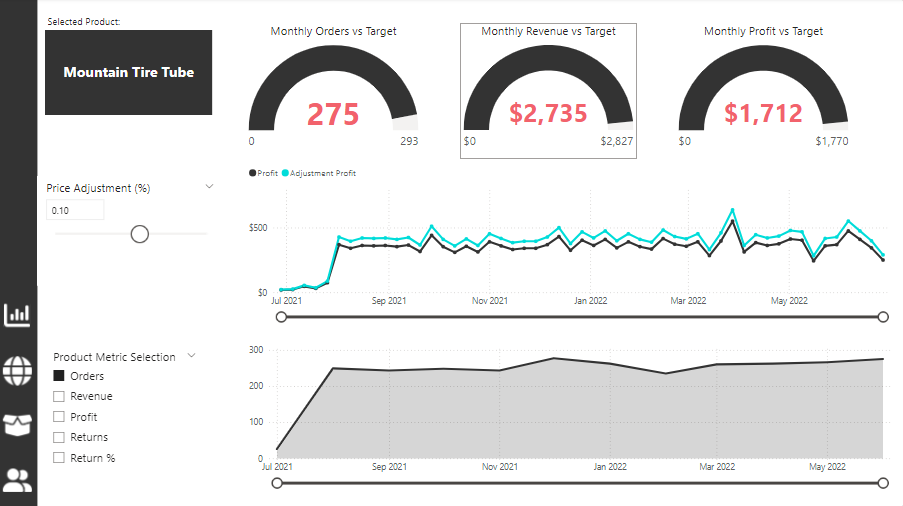

Layout of this report page (visuals, bound fields, positions):
{"tool":"powerbi","page":{"name":"Product Detail","canvas":[1280,720],"ordinal":2},"visuals":[{"type":"shape","title":"Pages Navigator","box":[0,0,55.7,720.6],"z":0},{"type":"gauge","title":"Monthly Orders vs Target","fields":{"Y":["_measures.Total Orders"],"MaxValue":["_measures.Order Target"]},"box":[349,35.3,250,192.5],"z":1000},{"type":"actionButton","title":"Exec Button","box":[5.5,416.5,45.2,63.5],"z":1000,"group":"g1"},{"type":"gauge","title":"Monthly Revenue vs Target","fields":{"Y":["_measures.Revenue"],"MaxValue":["_measures.Revenue Target"]},"box":[652.2,35.3,249.9,192],"z":2000},{"type":"actionButton","title":"Map Button","box":[3.4,499.3,49.4,53.6],"z":2000,"group":"g1"},{"type":"gauge","title":"Monthly Profit vs Target","fields":{"Y":["_measures.Profit"],"MaxValue":["_measures.Profit Target"]},"box":[955.2,35.3,250,192.5],"z":3000},{"type":"actionButton","title":"Product Button","box":[3.4,572.3,49.4,63.5],"z":3000,"group":"g1"},{"type":"lineChart","title":"Profit Trending","fields":{"Category":["Calendar Lookup.Year","Calendar Lookup.Date Hierarchy.Start of Month","Calendar Lookup.Date Hierarchy.Start of Week","Calendar Lookup.Date Hierarchy.Date"],"Y":["_measures.Profit","_measures.Adjustment Profit"]},"box":[348.7,227.3,931.8,234.4],"z":4000},{"type":"actionButton","title":"Customer Button","box":[3.4,655.1,49.4,50.8],"z":4000,"group":"g1"},{"type":"areaChart","title":"Returns Trending","fields":{"Category":["Calendar Lookup.Year","Calendar Lookup.Date Hierarchy.Start of Month","Calendar Lookup.Date Hierarchy.Start of Week","Calendar Lookup.Date Hierarchy.Date"],"Y":["_measures.Total Orders"]},"box":[348.7,482.8,931.8,213.2],"z":5000},{"type":"card","title":"Product Name-Card","fields":{"Values":["Min(Product Lookup.ProductName)"]},"box":[66.4,45.1,235.8,120],"z":6000},{"type":"textbox","title":"Product Name-Text","box":[65.6,20,137,31.4],"z":7000},{"type":"group","id":"g1","title":"Navigation tabs","box":[3.4,416.5,49.4,289.4],"z":7001},{"type":"slicer","title":"Price Adjustment","fields":{"Values":["Price Adjustment (%).Price Adjustment (%)"]},"box":[55.1,251.3,262.6,155.3],"z":7002},{"type":"slicer","fields":{"Values":["Product Metric Selection.Product Metric Selection"]},"box":[65.6,489.8,227.4,196.8],"z":7003}]}

Visuals, with their boxes on the page's 1280x720 design canvas (x1, y1, x2, y2). These are canvas units, not pixel positions in the 903x506 screenshot, which may show the page scaled, cropped or inside an application window:
"Pages Navigator" shape: (0, 0, 56, 721)
"Monthly Orders vs Target" gauge: (349, 35, 599, 228)
"Exec Button" actionButton: (6, 416, 51, 480)
"Monthly Revenue vs Target" gauge: (652, 35, 902, 227)
"Map Button" actionButton: (3, 499, 53, 553)
"Monthly Profit vs Target" gauge: (955, 35, 1205, 228)
"Product Button" actionButton: (3, 572, 53, 636)
"Profit Trending" lineChart: (349, 227, 1280, 462)
"Customer Button" actionButton: (3, 655, 53, 706)
"Returns Trending" areaChart: (349, 483, 1280, 696)
"Product Name-Card" card: (66, 45, 302, 165)
"Product Name-Text" textbox: (66, 20, 203, 51)
"Navigation tabs" group: (3, 416, 53, 706)
"Price Adjustment" slicer: (55, 251, 318, 407)
slicer - Product Metric Selection.Product Metric Selection: (66, 490, 293, 687)
